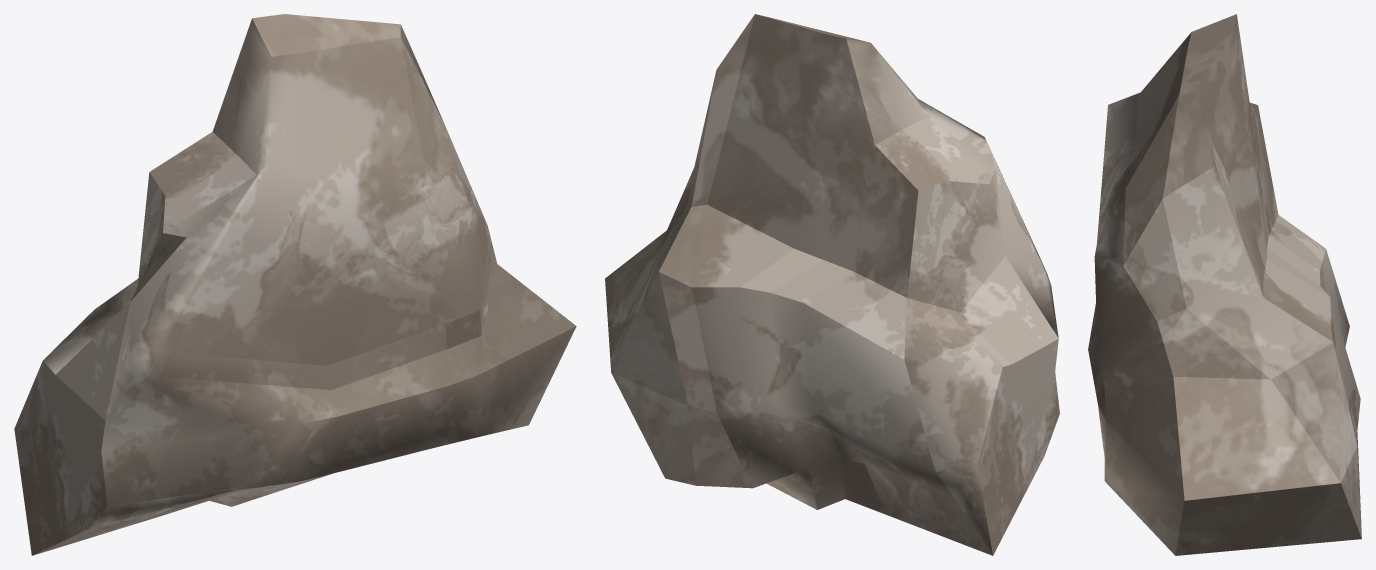
The model's file is Rock_05.fbx.
3 views of the same model, side by side, from view 1: azimuth 30°, elevation 25°; view 2: azimuth 150°, elevation 25°; view 3: azimuth 270°, elevation 25° (orthographic). The views are drawn at different scales.
Visible parts, largest first — view 1: pCube4; view 2: pCube4; view 3: pCube4.
Boxes of the visible parts, box(x1,y1,x2,y2) form: pCube4: box(14, 14, 576, 555); pCube4: box(605, 14, 1059, 555); pCube4: box(1088, 14, 1361, 555).
Size of the model in its own units: 190 by 190 by 95.65.
